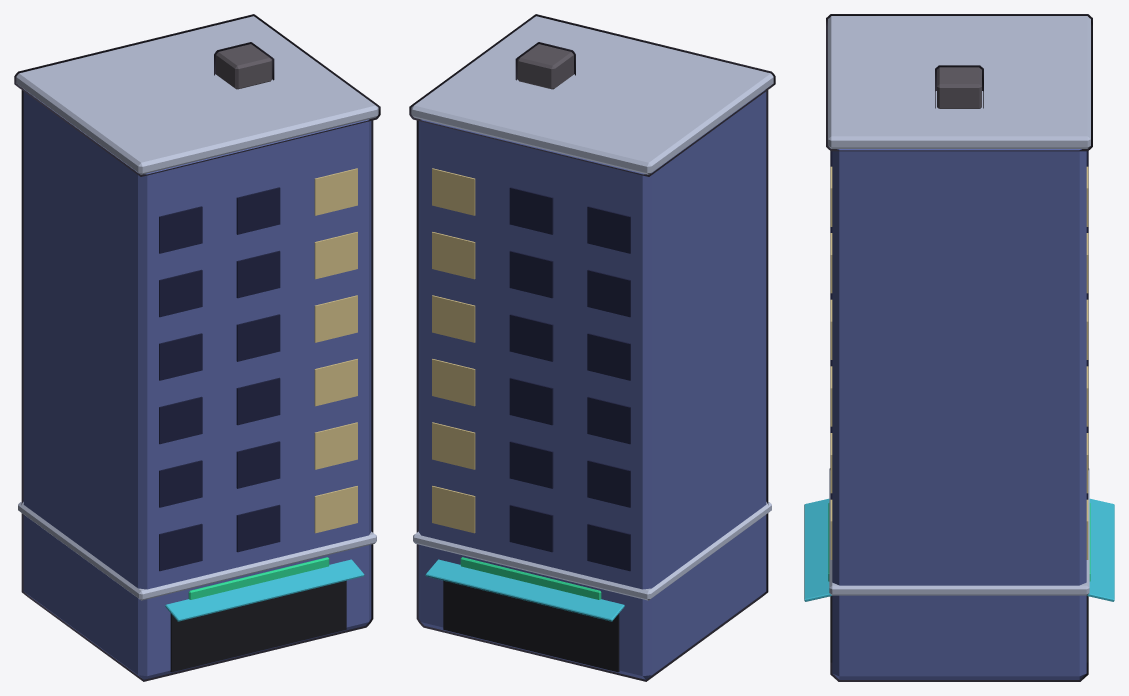
File: building_b.glb
3 renders of one model, left to right at view 1: azimuth 30°, elevation 25°; view 2: azimuth 150°, elevation 25°; view 3: azimuth 270°, elevation 25°, orthographic. The views are drawn at different scales.
Parts seen in each view (by area): view 1: building_b; view 2: building_b; view 3: building_b.
Boxes of the visible parts, x1=… form: building_b: x1=14, y1=14, x2=380, y2=681; building_b: x1=409, y1=14, x2=775, y2=681; building_b: x1=804, y1=14, x2=1114, y2=681.
Bounding box in the file's own units: 10.44 × 22.44 × 10.98.
